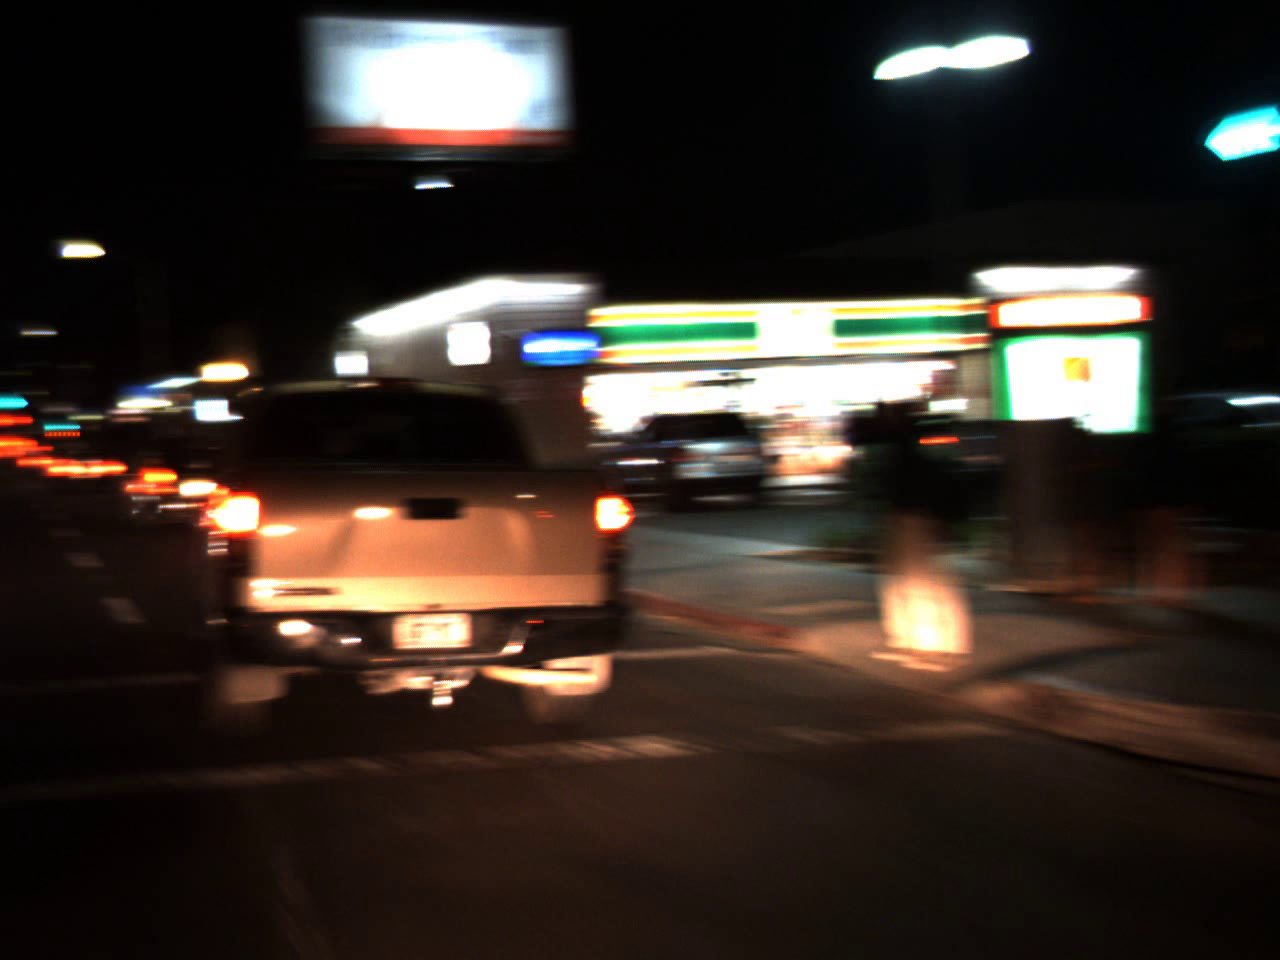go: (1167, 64, 1280, 178)
